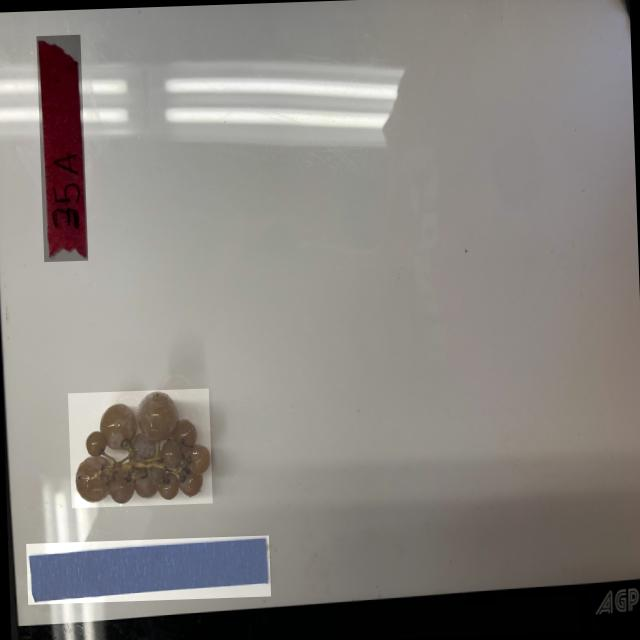grape_cluster: (68, 387, 212, 507)
index: (36, 33, 88, 260)
measure_label: (26, 534, 270, 603)
